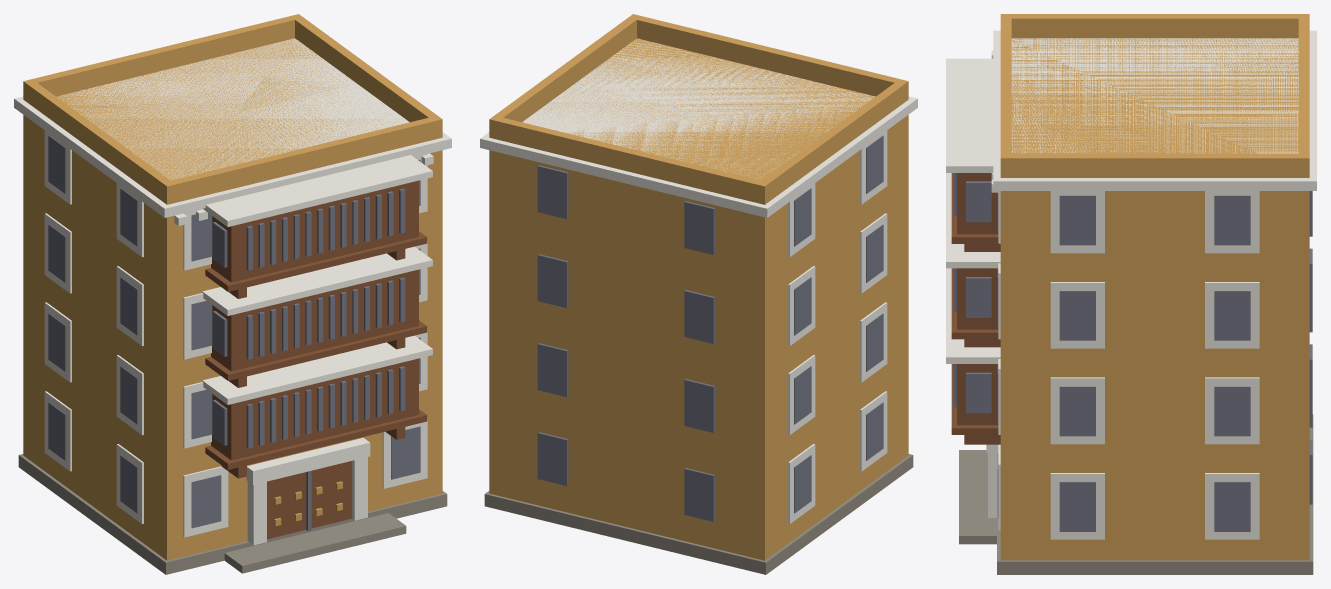
File: house-1x1-4f-quincha-a.glb
3 renders of one model, left to right at view 1: azimuth 30°, elevation 25°; view 2: azimuth 150°, elevation 25°; view 3: azimuth 270°, elevation 25°, orthographic. The views are drawn at different scales.
Parts seen in each view (by area): view 1: house-1x1-4f-quincha-a; view 2: house-1x1-4f-quincha-a; view 3: house-1x1-4f-quincha-a.
Boxes of the visible parts, x1,y1,x2,y2 form: house-1x1-4f-quincha-a: [14, 14, 451, 574]; house-1x1-4f-quincha-a: [480, 14, 917, 574]; house-1x1-4f-quincha-a: [946, 14, 1316, 574].
Bounding box in the file's own units: 0.98 × 1.26 × 1.02.
Materials: 1 (1 with a texture image).
